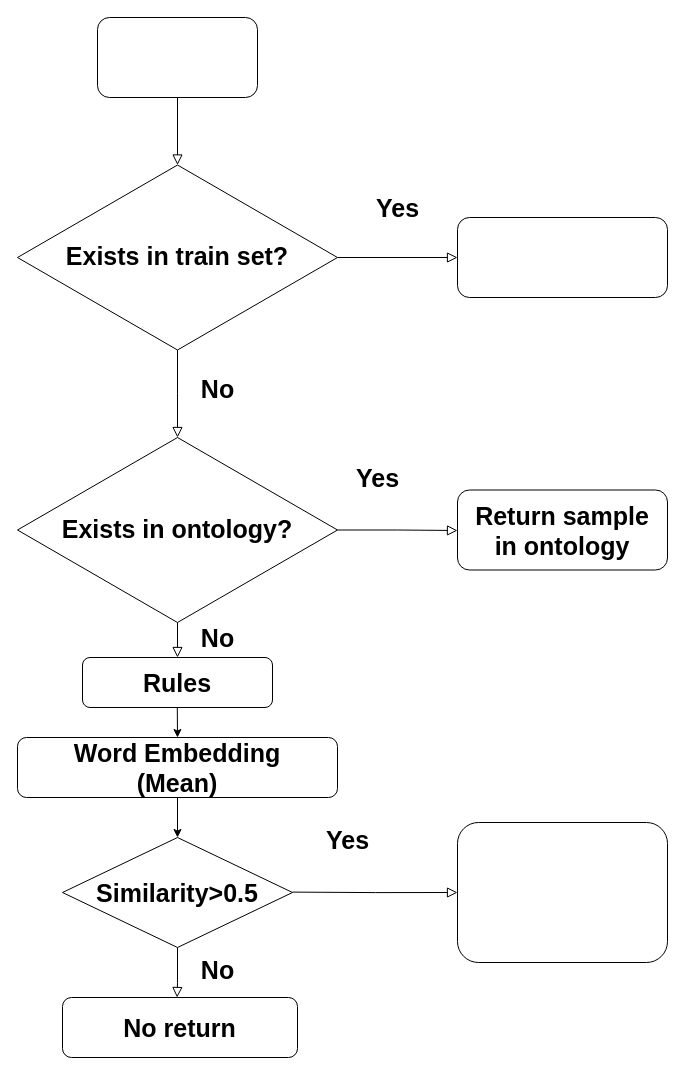
Some shapes in this 685 by 1075 pixel diagram are drawn without their labels. Here are the shapes that lost their labels. From the top down, the centre of each, then its label:
(177,57): Sample
(562,257): Return sample in train set
(562,892): Most Similar Term in Train &Ontology
